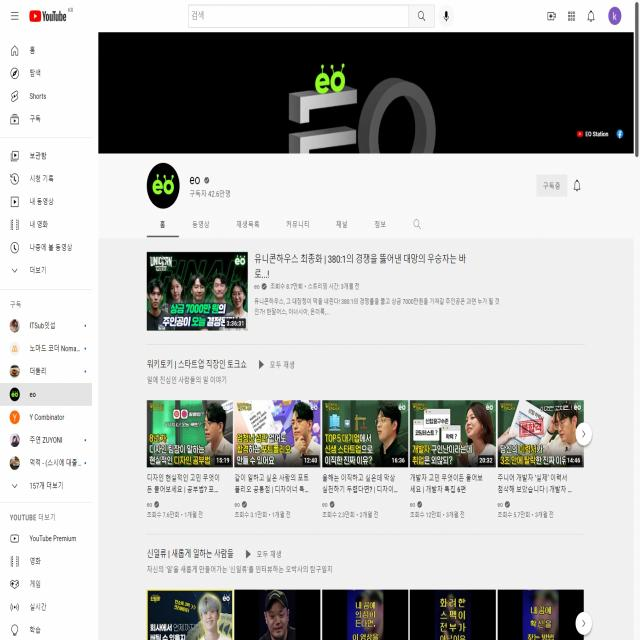menu-bar: (540, 4, 626, 28)
menu-panel: (1, 28, 97, 640), (141, 213, 432, 238)
search: (186, 3, 436, 30)
